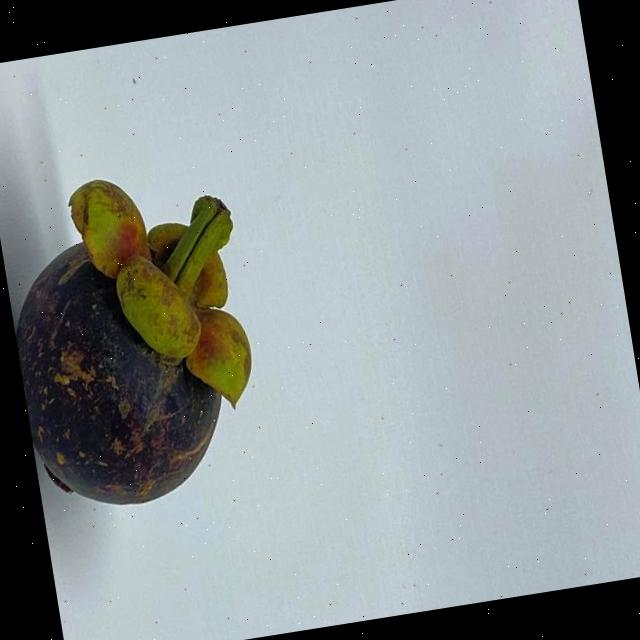mangosteen: (0, 153, 309, 534)
